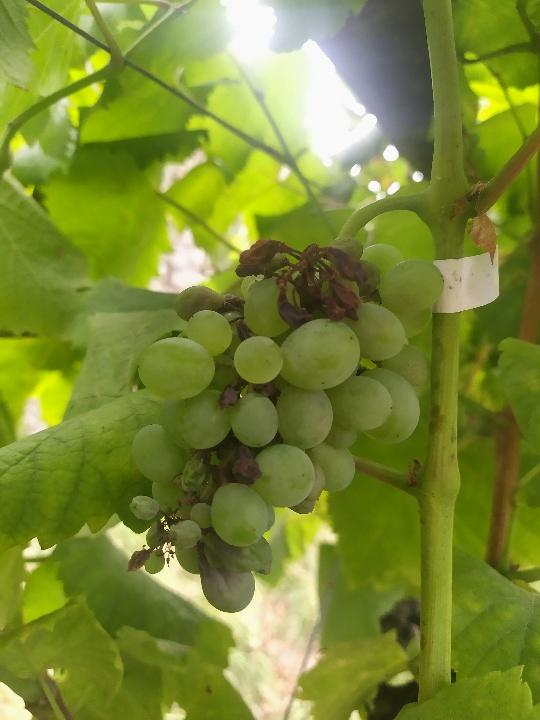grape: (124, 233, 448, 618)
